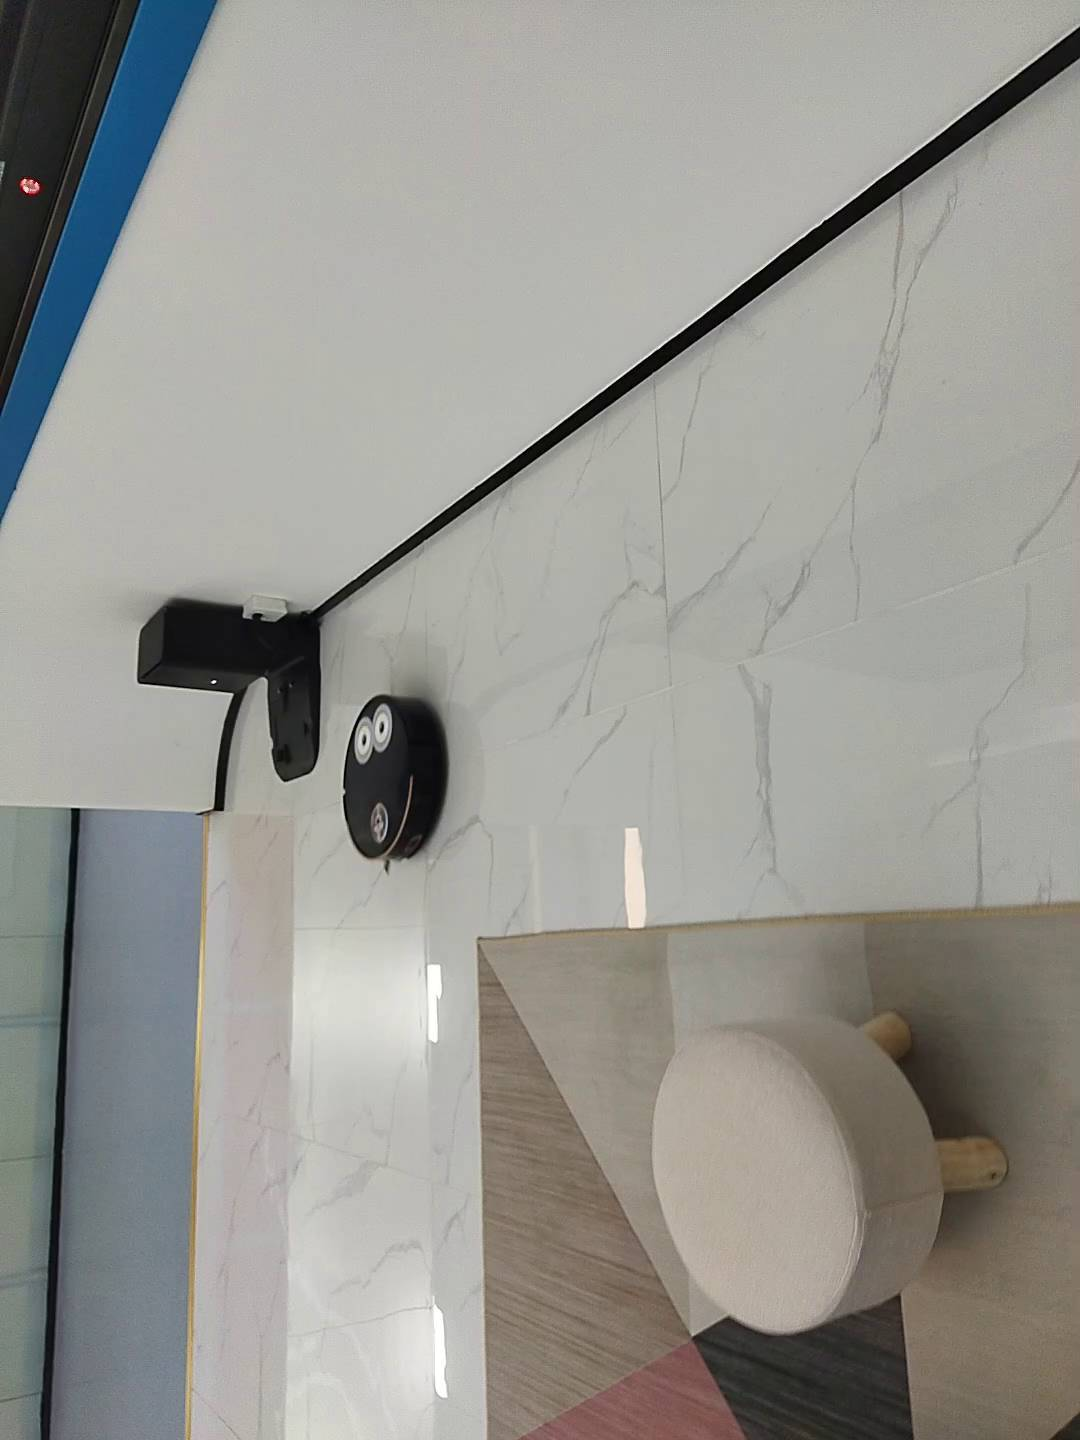dust collecting barrel: (136, 602, 323, 781)
